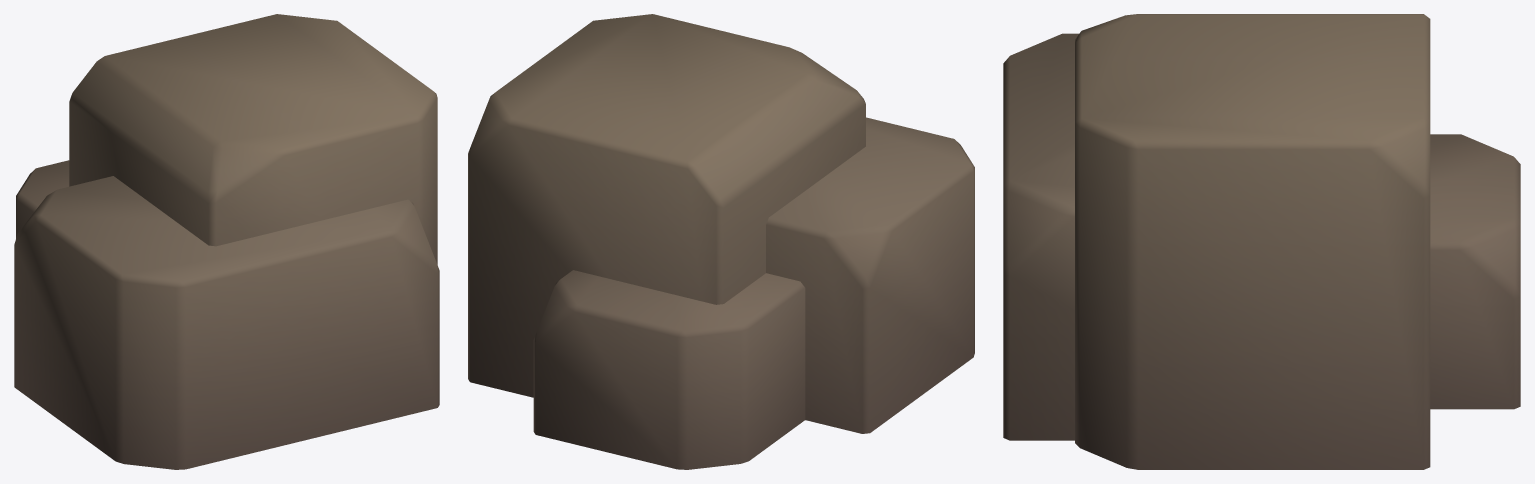
Rendered from dirt2_bevel.fbx.
3 views of the same model, side by side, from view 1: azimuth 30°, elevation 25°; view 2: azimuth 150°, elevation 25°; view 3: azimuth 270°, elevation 25° (orthographic). The views are drawn at different scales.
Parts seen in each view (by area): view 1: dirt2; view 2: dirt2; view 3: dirt2.
Boxes of the visible parts, <box> form: dirt2: <box>14,14,439,469</box>; dirt2: <box>468,14,974,469</box>; dirt2: <box>1003,14,1520,469</box>.
Size of the model in its own units: 140 by 101 by 146.
